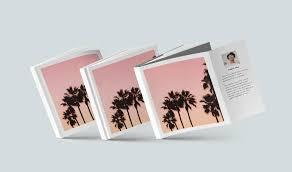Paper: (23, 34, 292, 156)
